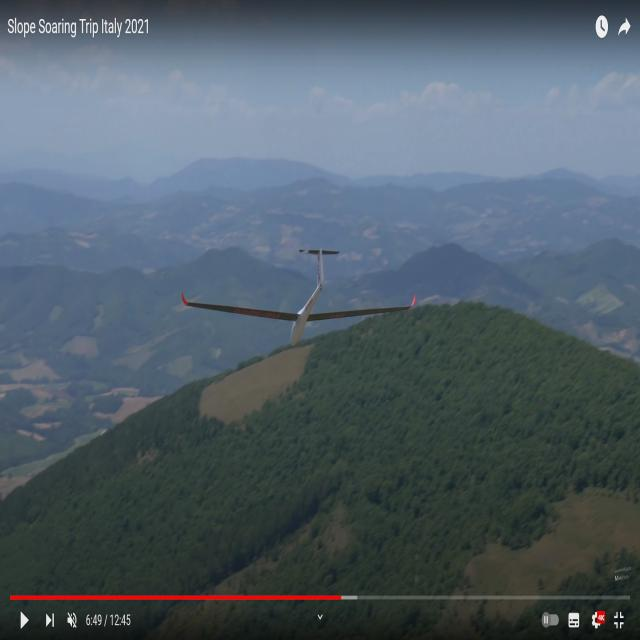iha: (183, 284, 418, 313)
